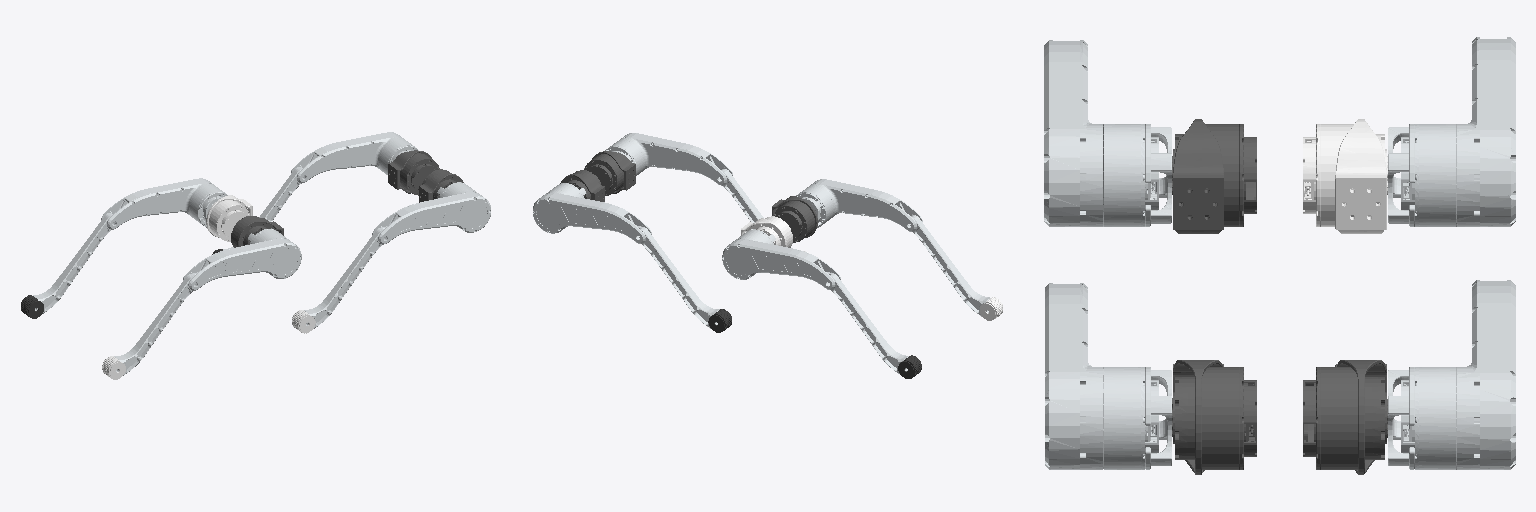
URDF robot description (d1_description):
<?xml version="1.0" encoding="utf-8"?>
<!-- This URDF was automatically created by SolidWorks to URDF Exporter! Originally created by Stephen Brawner (brawner@gmail.com) 
     Commit Version: 1.6.0-4-g7f85cfe  Build Version: 1.6.7995.38578
     For more information, please see http://wiki.ros.org/sw_urdf_exporter -->
<robot
  name="d1_description">
 
    <!-- <mujoco>
	  <compiler
	  meshdir="../meshes"
	  balanceinertia="true"
	  discardvisual="false"/>
  </mujoco>

  <link name="world"/>
  <joint name="floating_base" type="floating"> 
      <origin xyz="0 0 0" rpy="0 0 0" />
      <parent link="world"/>
      <child link="base"/>
  </joint> -->

  <link name="base">
    <inertial>
      <origin
        xyz="-0.001955 0.002743 -0.068608"
        rpy="0 0 0" />
      <mass
        value="6.889103" />
      <inertia
        ixx="0.035976"
        ixy="0.000077"
        ixz="-0.000148"
        iyy="0.081109"
        iyz="0.000272"
        izz="0.103076" />
    </inertial>
    <visual>
      <origin
        xyz="0 0 0"
        rpy="0 0 0" />
      <geometry>
        <!-- <mesh
          filename="../meshes/base.STL" /> -->
           <mesh
          filename="../meshes/base.STL" />
      </geometry>
      <material
        name="">
        <color
          rgba="0.882352941176471 0.882352941176471 0.882352941176471 1" />
      </material>
    </visual>
    <collision>
      <origin rpy="0 0 0" xyz="0 0 -0.069779"/>
      <geometry>
        <box size="0.28 0.18 0.1"/>
      </geometry>
    </collision>
  </link>


  <link
    name="FL_hip">
    <inertial>
      <origin
        xyz="0.047560 -0.010434 -0.000046"
        rpy="0 0 0" />
      <mass
        value="0.706316" />
      <inertia
        ixx="0.000403"
        ixy="0.000018"
        ixz="0.0"
        iyy="0.000535"
        iyz="-0.000001"
        izz="0.000446" />
    </inertial>
    <visual>
      <origin
        xyz="0 0 0"
        rpy="0 0 0" />
      <geometry>
        <!-- <mesh
          filename="../meshes/LF_hip.STL" /> -->
          <mesh
          filename="../meshes/LF_hip.STL" />
      </geometry>
      <material
        name="">
        <color
          rgba="0.43921568627451 0.43921568627451 0.43921568627451 1" />
      </material>
    </visual>
    <!-- <collision>
      <origin rpy="0 1.5708 1.5708" xyz="0.04756 -0.010434 -0.000046"/>
      <geometry>
        <cylinder length="0.03" radius="0.03"/>
      </geometry>
    </collision> -->
    <collision>
      <origin
        xyz="0 0 0"
        rpy="0 0 0" />
      <geometry>
        <box size="0.0001 0.0001 0.0001" />
      </geometry>
    </collision>
  </link>
  <joint
    name="FL_hip_joint"
    type="revolute">
    <origin
      xyz="0.16175 0.059997 -0.061498"
      rpy="0 0 0" />
    <parent
      link="base" />
    <child
      link="FL_hip" />
    <axis
      xyz="1 0 0" />
    <dynamics damping="0" friction="0.0"/>
    <limit
      lower="-1.57"
      upper="1.57"
      effort="20.0"
      velocity="6.28" />
  </joint>



  <link
    name="FL_thigh">
    <inertial>
      <origin
        xyz="-0.023554 0.050542 0.001956"
        rpy="0 0 0" />
      <mass
        value="0.977146" />
      <inertia
        ixx="0.000887"
        ixy="0.000644"
        ixz="0.000176"
        iyy="0.003756"
        iyz="-0.000057"
        izz="0.003918" />
    </inertial>
    <visual>
      <origin
        xyz="0 0 0"
        rpy="0 0 0" />
      <geometry>
        <mesh
          filename="../meshes/FL_thigh.STL" />
      </geometry>
      <material
        name="">
        <color
          rgba="0.898039215686275 0.917647058823529 0.929411764705882 1" />
      </material>
    </visual>
    <!-- <collision>
      <origin
        xyz="0 0 0"
        rpy="0 0 0" />
      <geometry>
        <mesh
          filename="package://d1_description/meshes/FL_thigh.STL" />
      </geometry>
    </collision> -->
    <collision> 
      <origin rpy="0 0.1 0" xyz="-0.07 0.08 0.016"/>
      <geometry>
        <box size="0.15 0.03 0.035"/>
      </geometry>
    </collision>
  </link>
  <joint
    name="FL_thigh_joint"
    type="revolute">
    <origin
      xyz="0.049998 0.019503 0"
      rpy="0 0 0" />
    <parent
      link="FL_hip" />
    <child
      link="FL_thigh" />
    <axis
      xyz="0 1 0" />
    <dynamics damping="0" friction="0.0"/>
    <limit
      lower="-1.57"
      upper="2.4"
      effort="55.0"
      velocity="6.28" />
  </joint>











  <link
    name="FL_calf">
    <inertial>
      <origin
        xyz="-0.010235 0.000248 -0.054204"
        rpy="0 0 0" />
      <mass
        value="0.240236" />
      <inertia
        ixx="0.000969"
        ixy="-0.000004"
        ixz="-0.001737"
        iyy="0.005316"
        iyz="-0.000004"
        izz="0.004359" />
    </inertial>
    <visual>
      <origin
        xyz="0 0 0"
        rpy="0 0 0" />
      <geometry>
        <mesh
          filename="../meshes/FL_calf.STL" />
      </geometry>
      <material
        name="">
        <color
          rgba="0.898039215686275 0.917647058823529 0.929411764705882 1" />
      </material>
    </visual>
    <collision> 
      <origin rpy="0 -0.76 0" xyz="-0.08 0.0 -0.08"/>
      <geometry>
        <box size="0.18 0.015 0.018"/>
      </geometry>
    </collision>
    <!-- <collision>
      <origin
        xyz="0 0 0"
        rpy="0 0 0" />
      <geometry>
        <mesh
          filename="package://d1_description/meshes/FL_calf.STL" />
      </geometry>
    </collision> -->
  </link>
  <joint
    name="FL_calf_joint"
    type="revolute">
    <origin
      xyz="-0.2 0.07825 0"
      rpy="0 0 0" />
    <parent
      link="FL_thigh" />
    <child
      link="FL_calf" />
    <axis
      xyz="0 1 0" />
    <limit
      lower="-2.25"
      upper="0.5"
      effort="55"
      velocity="6.28" />
  </joint>
  <link
    name="FL_foot">
    <inertial>
      <origin
        xyz="-0.000269 -0.0002 -0.000005"
        rpy="0 0 0" />
      <mass
        value="0.030285" />
      <inertia
        ixx="0.000008"
        ixy="0.0"
        ixz="0.0"
        iyy="0.000005"
        iyz="0.0"
        izz="0.000008" />
    </inertial>
    <visual>
      <origin
        xyz="0 0 0"
        rpy="0 0 0" />
      <geometry>
        <mesh
          filename="../meshes/FL_foot.STL" />
      </geometry>
      <material
        name="">
        <color
          rgba="0.298039215686275 0.298039215686275 0.298039215686275 1" />
      </material>
    </visual>
    <collision>
      <origin rpy="0 0 0" xyz="0 0 0"/>
      <geometry>
        <sphere radius="0.02"/>
      </geometry>
    </collision>
    <!-- <collision>
      <origin
        xyz="0 0 0"
        rpy="0 0 0" />
      <geometry>
        <mesh
          filename="package://d1_description/meshes/FL_foot.STL" />
      </geometry>
    </collision> -->
  </link>
  <joint
    name="FL_foot_joint"
    type="fixed" dont_collapse="true">
    <origin
      xyz="-0.17362 0 -0.14312"
      rpy="0 0 0" />
    <parent
      link="FL_calf" />
    <child
      link="FL_foot" />
    <axis
      xyz="0 0 0" />
  </joint>






   <link
    name="FR_hip">
    <inertial>
      <origin
        xyz="0.047555 0.010661 -0.000046"
        rpy="0 0 0" />
      <mass
        value="0.706316" />
      <inertia
        ixx="0.000403"
        ixy="-0.000018"
        ixz="0.0"
        iyy="0.000535"
        iyz="0.000001"
        izz="0.000447" />
    </inertial>
    <visual>
      <origin
        xyz="0 0 0"
        rpy="0 0 0" />
      <geometry>
        <!-- <mesh
          filename="../meshes/RF_hip.STL" /> -->
        <mesh
          filename="../meshes/RF_hip.STL" />
      </geometry>
      <material
        name="">
        <color
          rgba="0.43921568627451 0.43921568627451 0.43921568627451 1" />
      </material>
    </visual>
    <!-- <collision>
      <origin rpy="0 1.5708 1.5708" xyz="0.04756 0.010434 -0.000046"/>
      <geometry>
        <cylinder length="0.03" radius="0.03"/>
      </geometry>
    </collision> -->
    <collision>
      <origin
        xyz="0 0 0"
        rpy="0 0 0" />
      <geometry>
        <box size="0.0001 0.0001 0.0001" />
      </geometry>
    </collision>
  </link>
  <joint
    name="FR_hip_joint"
    type="revolute">
    <origin
      xyz="0.16175 -0.059983 -0.061498"
      rpy="0 0 0" />
    <parent
      link="base" />
    <child
      link="FR_hip" />
    <axis
      xyz="1 0 0" />
    <dynamics damping="0" friction="0.0"/>
    <limit
      lower="-1.57"
      upper="1.57"
      effort="20.0"
      velocity="6.28" />
  </joint>



  <link
    name="FR_thigh">
    <inertial>
      <origin
        xyz="-0.023592 -0.050542 0.001598"
        rpy="0 0 0" />
      <mass
        value="0.977146" />
      <inertia
        ixx="0.000882"
        ixy="-0.000645"
        ixz="0.000129"
        iyy="0.003756"
        iyz="0.000047"
        izz="0.003923" />
    </inertial>
    <visual>
      <origin
        xyz="0 0 0"
        rpy="0 0 0" />
      <geometry>
        <mesh
          filename="../meshes/FR_thigh.STL" />
      </geometry>
      <material
        name="">
        <color
          rgba="0.898039215686275 0.917647058823529 0.929411764705882 1" />
      </material>
    </visual>
    <collision> 
      <origin rpy="0 0.1 0" xyz="-0.07 -0.08 0.016"/>
      <geometry>
        <box size="0.15 0.03 0.035"/>
      </geometry>
    </collision>
    <!-- <collision>
      <origin
        xyz="0 0 0"
        rpy="0 0 0" />
      <geometry>
        <mesh
          filename="package://d1_description/meshes/FR_thigh.STL" />
      </geometry>
    </collision> -->
  </link>
  <joint
    name="FR_thigh_joint"
    type="revolute">
    <origin
      xyz="0.050002 -0.019247 0"
      rpy="0 0 0" />
    <parent
      link="FR_hip" />
    <child
      link="FR_thigh" />
    <axis
      xyz="0 1 0" />
    <dynamics damping="0" friction="0.0"/>
    <limit
      lower="-1.57"
      upper="2.4"
      effort="55.0"
      velocity="6.28" />
  </joint>






  <link
    name="FR_calf">
    <inertial>
      <origin
        xyz="-0.010245 -0.000248 -0.053503"
        rpy="0 0 0" />
      <mass
        value="0.240236" />
      <inertia
        ixx="0.000989"
        ixy="0.000004"
        ixz="-0.001772"
        iyy="0.005335"
        iyz="0.000004"
        izz="0.004358" />
    </inertial>
    <visual>
      <origin
        xyz="0 0 0"
        rpy="0 0 0" />
      <geometry>
        <mesh
          filename="../meshes/FR_calf.STL" />
      </geometry>
      <material
        name="">
        <color
          rgba="0.898039215686275 0.917647058823529 0.929411764705882 1" />
      </material>
    </visual>
    <collision> 
      <origin rpy="0 -0.76 0" xyz="-0.08 0.0 -0.08"/>
      <geometry>
        <box size="0.18 0.015 0.018"/>
      </geometry>
    </collision>
    <!-- <collision>
      <origin
        xyz="0 0 0"
        rpy="0 0 0" />
      <geometry>
        <mesh
          filename="package://d1_description/meshes/FR_calf.STL" />
      </geometry>
    </collision> -->
  </link>
  <joint
    name="FR_calf_joint"
    type="revolute">
    <origin
      xyz="-0.19998 -0.07825 -0.003052"
      rpy="0 0 0" />
    <parent
      link="FR_thigh" />
    <child
      link="FR_calf" />
    <axis
      xyz="0 1 0" />
    <limit
      lower="-2.25"
      upper="0.5"
      effort="55.0"
      velocity="6.28" />
  </joint>
  <link
    name="FR_foot">
    <inertial>
      <origin
        xyz="-0.000269 0.0002 -0.000005"
        rpy="0 0 0" />
      <mass
        value="0.030285" />
      <inertia
        ixx="0.000008"
        ixy="0.0"
        ixz="0.0"
        iyy="0.000005"
        iyz="0.0"
        izz="0.000008" />
    </inertial>
    <visual>
      <origin
        xyz="0 0 0"
        rpy="0 0 0" />
      <geometry>
        <mesh
          filename="../meshes/FR_foot.STL" />
      </geometry>
      <material
        name="">
        <color
          rgba="1 1 1 1" />
      </material>
    </visual>
     <collision>
      <origin rpy="0 0 0" xyz="0 0 0"/>
      <geometry>
        <sphere radius="0.02"/>
      </geometry>
    </collision>
    <!-- <collision>
      <origin
        xyz="0 0 0"
        rpy="0 0 0" />
      <geometry>
        <mesh
          filename="package://d1_description/meshes/FR_foot.STL" />
      </geometry>
    </collision> -->
  </link>
  <joint
    name="FR_foot_joint"
    type="fixed" dont_collapse="true">
    <origin
      xyz="-0.17362 0 -0.14312"
      rpy="0 0 0" />
    <parent
      link="FR_calf" />
    <child
      link="FR_foot" />
    <axis
      xyz="0 0 0" />
  </joint>



  <link
    name="RL_hip">
    <inertial>
      <origin
        xyz="-0.047555 -0.010434 -0.000042"
        rpy="0 0 0" />
      <mass
        value="0.706316" />
      <inertia
        ixx="0.000403"
        ixy="-0.000018"
        ixz="0.0"
        iyy="0.000535"
        iyz="-0.000001"
        izz="0.000446" />
    </inertial>
    <visual>
      <origin
        xyz="0 0 0"
        rpy="0 0 0" />
      <geometry>
        <!-- <mesh
          filename="../meshes/LH_hip.STL" /> -->
        <mesh
          filename="../meshes/LH_hip.STL" />
      </geometry>
      <material
        name="">
        <color
          rgba="1 1 1 1" />
      </material>
    </visual>
    <!-- <collision>
      <origin rpy="0 1.5708 1.5708" xyz="-0.04756 -0.010434 -0.000046"/>
      <geometry>
        <cylinder length="0.03" radius="0.03"/>
      </geometry>
    </collision> -->
    <collision>
      <origin
        xyz="0 0 0"
        rpy="0 0 0" />
      <geometry>
        <box size="0.0001 0.0001 0.0001" />
      </geometry>
    </collision>
  </link>
  <joint
    name="RL_hip_joint"
    type="revolute">
    <origin
      xyz="-0.16175 0.059997 -0.061502"
      rpy="0 0 0" />
    <parent
      link="base" />
    <child
      link="RL_hip" />
    <axis
      xyz="1 0 0" />
    <dynamics damping="0" friction="0.0"/>
    <limit
      lower="-1.57"
      upper="1.57"
      effort="20.0"
      velocity="6.28" />
  </joint>

  <link
    name="RL_thigh">
    <inertial>
      <origin
        xyz="-0.023554 0.050542 0.001956"
        rpy="0 0 0" />
      <mass
        value="0.977146" />
      <inertia
        ixx="0.000887"
        ixy="0.000644"
        ixz="0.000176"
        iyy="0.003756"
        iyz="-0.000057"
        izz="0.003918" />
    </inertial>
    <visual>
      <origin
        xyz="0 0 0"
        rpy="0 0 0" />
      <geometry>
        <mesh
          filename="../meshes/RL_thigh.STL" />
      </geometry>
      <material
        name="">
        <color
          rgba="0.898039215686275 0.917647058823529 0.929411764705882 1" />
      </material>
    </visual>
    <collision> 
      <origin rpy="0 0.1 0" xyz="-0.07 0.08 0.016"/>
      <geometry>
        <box size="0.15 0.03 0.035"/>
      </geometry>
    </collision>
    <!-- <collision>
      <origin
        xyz="0 0 0"
        rpy="0 0 0" />
      <geometry>
        <mesh
          filename="package://d1_description/meshes/RL_thigh.STL" />
      </geometry>
    </collision> -->
  </link>
  <joint
    name="RL_thigh_joint"
    type="revolute">
    <origin
      xyz="-0.050002 0.019503 0"
      rpy="0 0 0" />
    <parent
      link="RL_hip" />
    <child
      link="RL_thigh" />
    <axis
      xyz="0 1 0" />
    <dynamics damping="0" friction="0.0"/>
    <limit
      lower="-1.57"
      upper="2.4"
      effort="55.0"
      velocity="6.28" />
  </joint>





  <link
    name="RL_calf">
    <inertial>
      <origin
        xyz="-0.010235 0.000248 -0.054204"
        rpy="0 0 0" />
      <mass
        value="0.240236" />
      <inertia
        ixx="0.000969"
        ixy="-0.000004"
        ixz="-0.001737"
        iyy="0.005316"
        iyz="-0.000004"
        izz="0.004359" />
    </inertial>
    <visual>
      <origin
        xyz="0 0 0"
        rpy="0 0 0" />
      <geometry>
        <mesh
          filename="../meshes/RL_calf.STL" />
      </geometry>
      <material
        name="">
        <color
          rgba="0.898039215686275 0.917647058823529 0.929411764705882 1" />
      </material>
    </visual>
    <collision> 
      <origin rpy="0 -0.76 0" xyz="-0.08 0.0 -0.08"/>
      <geometry>
        <box size="0.18 0.015 0.018"/>
      </geometry>
    </collision>
    <!-- <collision>
      <origin
        xyz="0 0 0"
        rpy="0 0 0" />
      <geometry>
        <mesh
          filename="package://d1_description/meshes/RL_calf.STL" />
      </geometry>
    </collision> -->
  </link>
  <joint
    name="RL_calf_joint"
    type="revolute">
    <origin
      xyz="-0.2 0.07825 0"
      rpy="0 0 0" />
    <parent
      link="RL_thigh" />
    <child
      link="RL_calf" />
    <axis
      xyz="0 1 0" />
    <limit
      lower="-2.25"
      upper="0.5"
      effort="55"
      velocity="6.28" />
  </joint>
  <link
    name="RL_foot">
    <inertial>
      <origin
        xyz="-0.000269 -0.0002 -0.000005"
        rpy="0 0 0" />
      <mass
        value="0.030285" />
      <inertia
        ixx="0.000008"
        ixy="0.0"
        ixz="0.0"
        iyy="0.000005"
        iyz="0.0"
        izz="0.000008" />
    </inertial>
    <visual>
      <origin
        xyz="0 0 0"
        rpy="0 0 0" />
      <geometry>
        <mesh
          filename="../meshes/RL_foot.STL" />
      </geometry>
      <material
        name="">
        <color
          rgba="0.298039215686275 0.298039215686275 0.298039215686275 1" />
      </material>
    </visual>
     <collision>
      <origin rpy="0 0 0" xyz="0 0 0"/>
      <geometry>
        <sphere radius="0.02"/>
      </geometry>
    </collision>
    <!-- <collision>
      <origin
        xyz="0 0 0"
        rpy="0 0 0" />
      <geometry>
        <mesh
          filename="package://d1_description/meshes/RL_foot.STL" />
      </geometry>
    </collision> -->
  </link>
  <joint
    name="RL_foot_joint"
    type="fixed" dont_collapse="true">
    <origin
      xyz="-0.17362 0 -0.14312"
      rpy="0 0 0" />
    <parent
      link="RL_calf" />
    <child
      link="RL_foot" />
    <axis
      xyz="0 0 0" />
  </joint>



  <link
    name="RR_hip">
    <inertial>
      <origin
        xyz="-0.047555 0.010661 0.000046"
        rpy="0 0 0" />
      <mass
        value="0.706316" />
      <inertia
        ixx="0.000403"
        ixy="0.000018"
        ixz="0.0"
        iyy="0.000535"
        iyz="-0.000001"
        izz="0.000447" />
    </inertial>
    <visual>
      <origin
        xyz="0 0 0"
        rpy="0 0 0" />
      <geometry>
        <!-- <mesh
          filename="../meshes/RH_hip.STL" /> -->
        <mesh
          filename="../meshes/RH_hip.STL" />
      </geometry>
      <material
        name="">
        <color
          rgba="0.43921568627451 0.43921568627451 0.43921568627451 1" />
      </material>
    </visual>
    <!-- <collision>
      <origin rpy="0 1.5708 1.5708" xyz="-0.04756 0.010434 -0.000046"/>
      <geometry>
        <cylinder length="0.03" radius="0.03"/>
      </geometry>
    </collision> -->
    <collision>
      <origin
        xyz="0 0 0"
        rpy="0 0 0" />
      <geometry>
        <box size="0.0001 0.0001 0.0001" />
      </geometry>
    </collision>
  </link>
  <joint
    name="RR_hip_joint"
    type="revolute">
    <origin
      xyz="-0.16175 -0.060003 -0.061502"
      rpy="0 0 0" />
    <parent
      link="base" />
    <child
      link="RR_hip" />
    <axis
      xyz="1 0 0" />
    <dynamics damping="0" friction="0.0"/>
    <limit
      lower="-1.57"
      upper="1.57"
      effort="20.0"
      velocity="6.28" />
  </joint>

  <link
    name="RR_thigh">
    <inertial>
      <origin
        xyz="-0.023592 -0.050542 0.001598"
        rpy="0 0 0" />
      <mass
        value="0.977146" />
      <inertia
        ixx="0.000882"
        ixy="-0.000645"
        ixz="0.000129"
        iyy="0.003756"
        iyz="0.000047"
        izz="0.003923" />
    </inertial>
    <visual>
      <origin
        xyz="0 0 0"
        rpy="0 0 0" />
      <geometry>
        <mesh
          filename="../meshes/RR_thigh.STL" />
      </geometry>
      <material
        name="">
        <color
          rgba="0.898039215686275 0.917647058823529 0.929411764705882 1" />
      </material>
    </visual>
    <collision> 
      <origin rpy="0 0.1 0" xyz="-0.07 -0.08 0.016"/>
      <geometry>
        <box size="0.15 0.03 0.035"/>
      </geometry>
    </collision>
    <!-- <collision>
      <origin
        xyz="0 0 0"
        rpy="0 0 0" />
      <geometry>
        <mesh
          filename="package://d1_description/meshes/RR_thigh.STL" />
      </geometry>
    </collision> -->
  </link>
  <joint
    name="RR_thigh_joint"
    type="revolute">
    <origin
      xyz="-0.050002 -0.019247 0"
      rpy="0 0 0" />
    <parent
      link="RR_hip" />
    <child
      link="RR_thigh" />
    <axis
      xyz="0 1 0" />
    <dynamics damping="0" friction="0.0"/>
    <limit
      lower="-1.57"
      upper="2.4"
      effort="55.0"
      velocity="6.28" />
  </joint>






  <link
    name="RR_calf">
    <inertial>
      <origin
        xyz="-0.010245 -0.000248 -0.053503"
        rpy="0 0 0" />
      <mass
        value="0.240236" />
      <inertia
        ixx="0.000989"
        ixy="0.000004"
        ixz="-0.001772"
        iyy="0.005335"
        iyz="0.000004"
        izz="0.004358" />
    </inertial>
    <visual>
      <origin
        xyz="0 0 0"
        rpy="0 0 0" />
      <geometry>
        <mesh
          filename="../meshes/RR_calf.STL" />
      </geometry>
      <material
        name="">
        <color
          rgba="0.898039215686275 0.917647058823529 0.929411764705882 1" />
      </material>
    </visual>
    <collision> 
      <origin rpy="0 -0.76 0" xyz="-0.08 0.0 -0.08"/>
      <geometry>
        <box size="0.18 0.015 0.018"/>
      </geometry>
    </collision>
    <!-- <collision>
      <origin
        xyz="0 0 0"
        rpy="0 0 0" />
      <geometry>
        <mesh
          filename="package://d1_description/meshes/RR_calf.STL" />
      </geometry>
    </collision> -->
  </link>
  <joint
    name="RR_calf_joint"
    type="revolute">
    <origin
      xyz="-0.19998 -0.07825 -0.003052"
      rpy="0 0 0" />
    <parent
      link="RR_thigh" />
    <child
      link="RR_calf" />
    <axis
      xyz="0 1 0" />
    <limit
      lower="-2.25"
      upper="0.5"
      effort="55.0"
      velocity="6.28" />
  </joint>
  <link
    name="RR_foot">
    <inertial>
      <origin
        xyz="-0.000269 0.0002 -0.000005"
        rpy="0 0 0" />
      <mass
        value="0.030285" />
      <inertia
        ixx="0.000008"
        ixy="0.0"
        ixz="0.0"
        iyy="0.000005"
        iyz="0.0"
        izz="0.000008" />
    </inertial>
    <visual>
      <origin
        xyz="0 0 0"
        rpy="0 0 0" />
      <geometry>
        <mesh
          filename="../meshes/RR_foot.STL" />
      </geometry>
      <material
        name="">
        <color
          rgba="1 1 1 1" />
      </material>
    </visual>
     <collision>
      <origin rpy="0 0 0" xyz="0 0 0"/>
      <geometry>
        <sphere radius="0.02"/>
      </geometry>
    </collision>
    <!-- <collision>
      <origin
        xyz="0 0 0"
        rpy="0 0 0" />
      <geometry>
        <mesh
          filename="package://d1_description/meshes/RR_foot.STL" />
      </geometry>
    </collision> -->
  </link>
  <joint
    name="RR_foot_joint"
    type="fixed" dont_collapse="true">
    <origin
      xyz="-0.173615531262253 0 -0.143117599562475"
      rpy="0 0 0" />
    <parent
      link="RR_calf" />
    <child
      link="RR_foot" />
    <axis
      xyz="0 0 0" />
  </joint>
</robot>

--- Render facts (derived) ---
The picture shows the robot from 3 angles, left to right: view 1: azimuth 30°, elevation 25°; view 2: azimuth 150°, elevation 25°; view 3: azimuth 270°, elevation 25°; orthographic projection.
Robot: d1_description — 17 links, 16 joints (12 revolute, 4 fixed); root link base; default pose: all joints at 0.
Visible links, largest first — view 1: RR_thigh, FR_thigh, RL_thigh, FL_thigh, FL_hip, RR_calf, FR_calf, RL_calf, RL_hip, RR_hip, FR_hip, FL_calf; view 2: RL_thigh, FL_thigh, RR_thigh, FR_thigh, FR_hip, RL_calf, FL_calf, RR_calf, RR_hip, RL_hip, FL_hip, FR_calf; view 3: FL_thigh, RL_thigh, RR_thigh, FR_thigh, RR_hip, RL_hip, FL_hip, FR_hip.
Boxes of the visible links, <box> form: RR_thigh: <box>183,228,301,290</box>; FR_thigh: <box>372,182,490,244</box>; RL_thigh: <box>101,178,227,229</box>; FL_thigh: <box>291,132,418,183</box>; FL_hip: <box>388,150,439,195</box>; RR_calf: <box>114,272,197,375</box>; FR_calf: <box>304,226,386,328</box>; RL_calf: <box>33,213,115,313</box>; RL_hip: <box>206,195,252,241</box>; RR_hip: <box>231,216,283,247</box>; FR_hip: <box>419,169,463,202</box>; FL_calf: <box>223,167,304,249</box>; RL_thigh: <box>722,229,840,289</box>; FL_thigh: <box>533,183,651,243</box>; RR_thigh: <box>796,179,922,231</box>; FR_thigh: <box>605,133,732,185</box>; FR_hip: <box>584,151,635,195</box>; RL_calf: <box>827,272,908,373</box>; FL_calf: <box>636,225,719,328</box>; RR_calf: <box>908,215,989,316</box>; RR_hip: <box>772,196,817,242</box>; RL_hip: <box>741,216,792,247</box>; FL_hip: <box>560,170,604,201</box>; FR_calf: <box>719,169,763,222</box>; FL_thigh: <box>1388,280,1515,469</box>; RL_thigh: <box>1388,37,1515,226</box>; RR_thigh: <box>1044,40,1171,226</box>; FR_thigh: <box>1045,283,1171,469</box>; RR_hip: <box>1172,119,1256,233</box>; RL_hip: <box>1303,119,1387,233</box>; FL_hip: <box>1303,360,1387,474</box>; FR_hip: <box>1172,360,1256,474</box>.
Bounding box of the posed robot: 0.8589 × 0.3472 × 0.209 m (x, y, z).
Meshes: 17 distinct files referenced, 16 mesh visuals loaded (16 binary STL); not drawn: 1 (reference not matched to a file when rendering).
